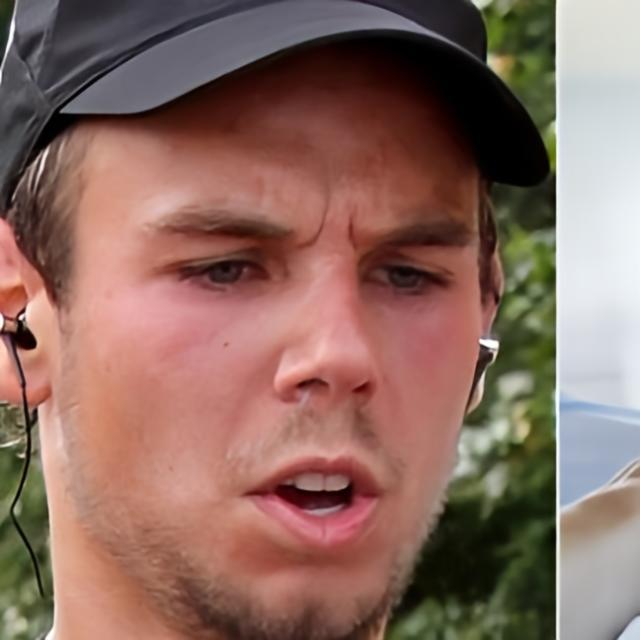anger: (75, 64, 483, 624)
